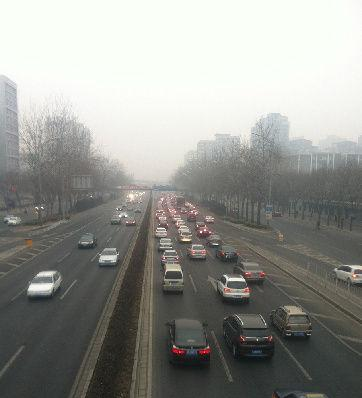car: (221, 312, 274, 359), (164, 317, 211, 366), (270, 305, 312, 340), (26, 270, 63, 300), (216, 273, 249, 305), (232, 260, 265, 284), (160, 263, 184, 293), (330, 265, 362, 286), (215, 244, 239, 263), (98, 247, 120, 267), (161, 249, 179, 268), (187, 244, 207, 260), (77, 233, 97, 249), (205, 234, 223, 248), (157, 237, 173, 252), (178, 231, 193, 244), (196, 227, 211, 239), (155, 226, 168, 239), (7, 216, 22, 227), (3, 213, 15, 224), (177, 225, 190, 235), (194, 222, 207, 232), (204, 214, 215, 225), (125, 216, 136, 227), (110, 215, 121, 226), (185, 213, 197, 223), (172, 214, 182, 224), (133, 205, 142, 214), (115, 205, 123, 212)
